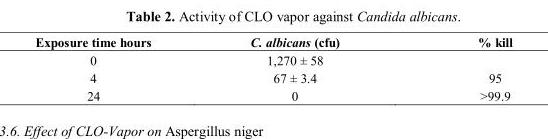table: (34, 34, 511, 102)
table column: (200, 34, 408, 102), (34, 34, 200, 102), (408, 34, 511, 102)
table column header: (34, 34, 511, 50)
table row: (34, 50, 511, 68), (34, 68, 511, 86), (34, 34, 511, 50), (34, 86, 511, 102)
